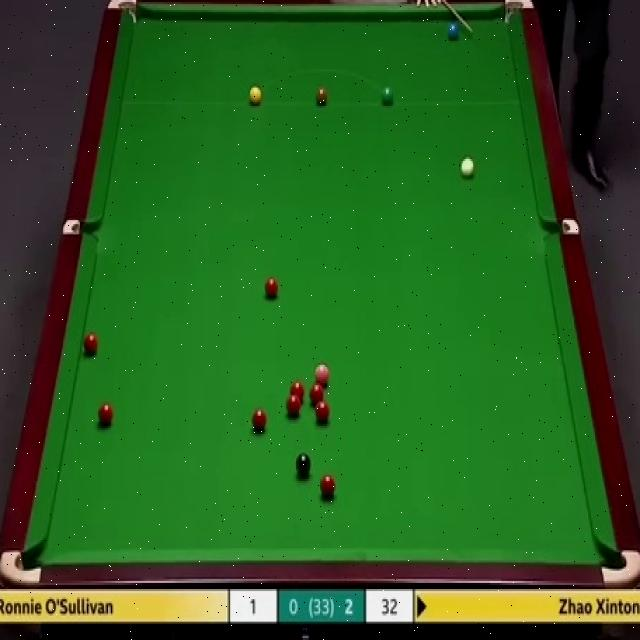black-ball: (296, 453, 313, 476)
blue-ball: (448, 21, 462, 39)
brown-ball: (316, 86, 329, 106)
green-ball: (380, 86, 395, 107)
pink-ball: (314, 360, 330, 385)
red-ball: (251, 407, 268, 434), (320, 472, 337, 498), (83, 332, 101, 356), (314, 398, 330, 423), (98, 402, 114, 426), (264, 276, 279, 300), (308, 382, 324, 404), (290, 380, 305, 402), (286, 394, 301, 416)
white-ball: (459, 156, 474, 179)
yellow-ball: (247, 85, 263, 106)
